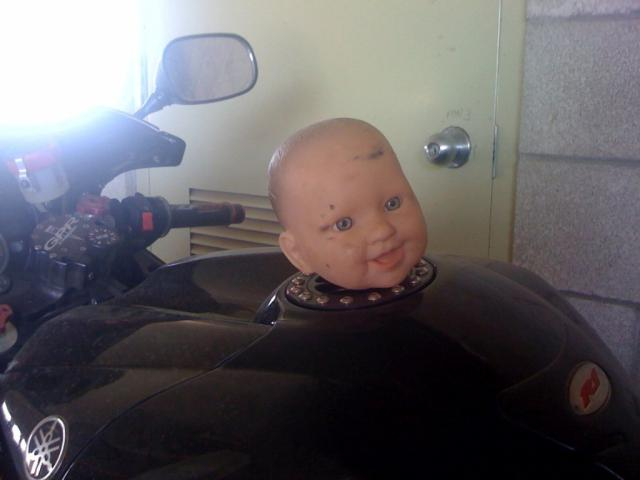Door-handle: (422, 126, 470, 169)
